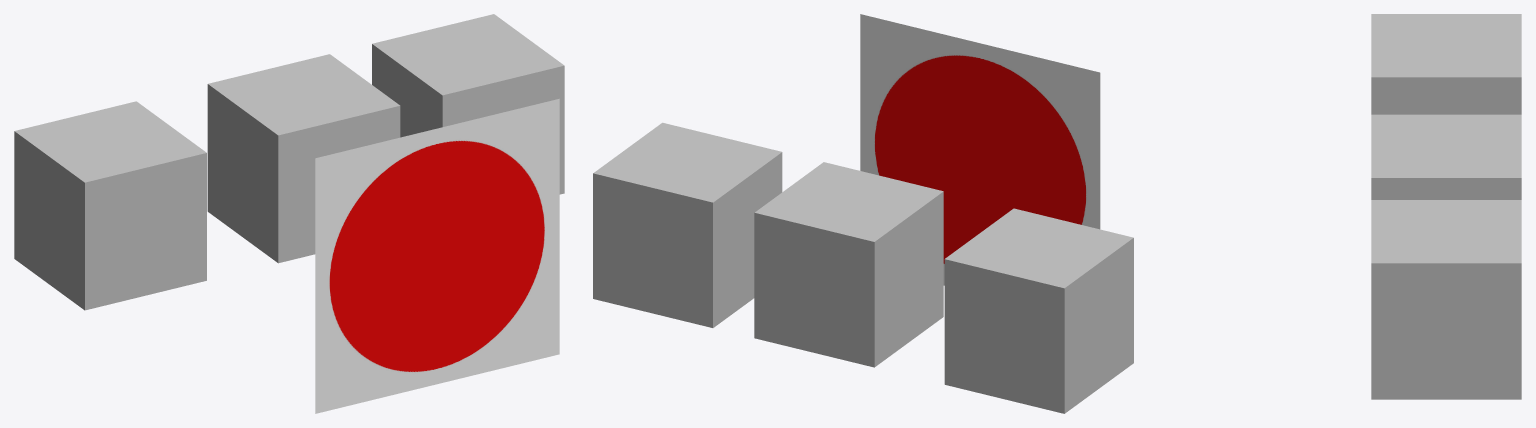
File: cerchi6.dae
3 renders of one model, left to right at view 1: azimuth 30°, elevation 25°; view 2: azimuth 150°, elevation 25°; view 3: azimuth 270°, elevation 25°, orthographic. The views are drawn at different scales.
Visible parts, largest first — view 1: Cube (×3), Plane; view 2: Cube (×3), Plane; view 3: Cube (×3).
Boxes of the visible parts, left/top/right/bottom form: Cube (×3): left=14, top=14, right=564, bottom=310; Plane: left=315, top=98, right=559, bottom=413; Cube (×3): left=593, top=122, right=1133, bottom=413; Plane: left=860, top=14, right=1100, bottom=285; Cube (×3): left=1371, top=14, right=1521, bottom=399.
Bounding box in the file's own units: 786 × 400 × 478.
Materials: 2 (1 with a texture image).
